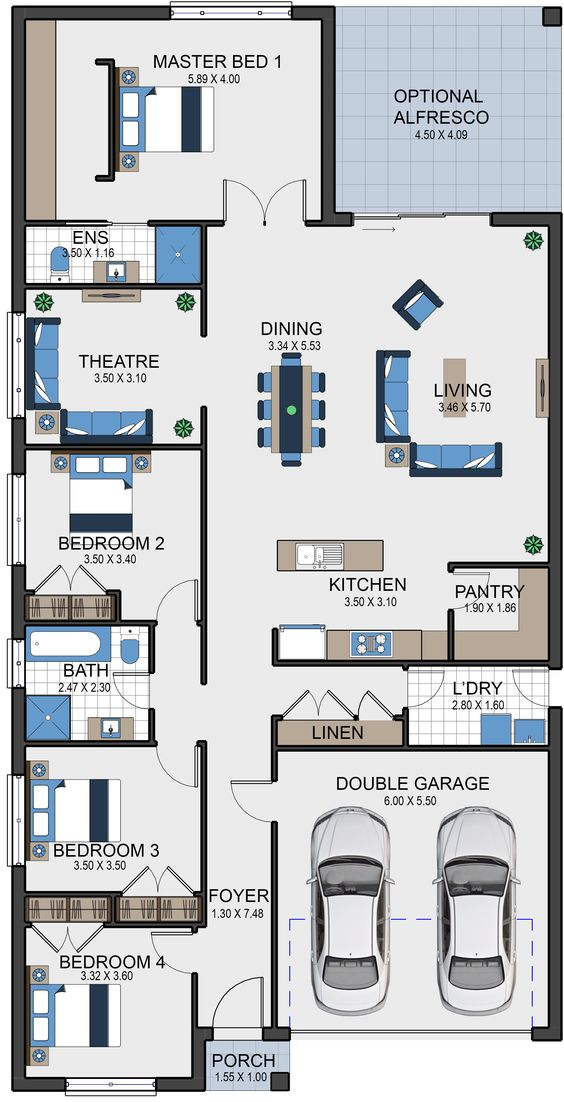door: (216, 172, 314, 216), (210, 970, 267, 1024), (226, 774, 266, 827), (147, 927, 187, 980), (150, 752, 198, 795), (154, 576, 198, 615), (111, 667, 146, 711), (507, 668, 545, 704), (416, 667, 454, 703)
room: (196, 210, 564, 669), (8, 3, 338, 229), (5, 888, 209, 1096), (4, 738, 212, 930), (8, 442, 209, 628), (8, 280, 213, 450), (269, 657, 564, 754), (6, 617, 162, 752), (9, 218, 212, 289)
window: (2, 307, 28, 419), (61, 1073, 159, 1102), (164, 1, 291, 23), (2, 770, 29, 869), (7, 470, 33, 570), (5, 636, 28, 694)
